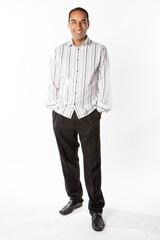Human: (47, 4, 122, 233)
